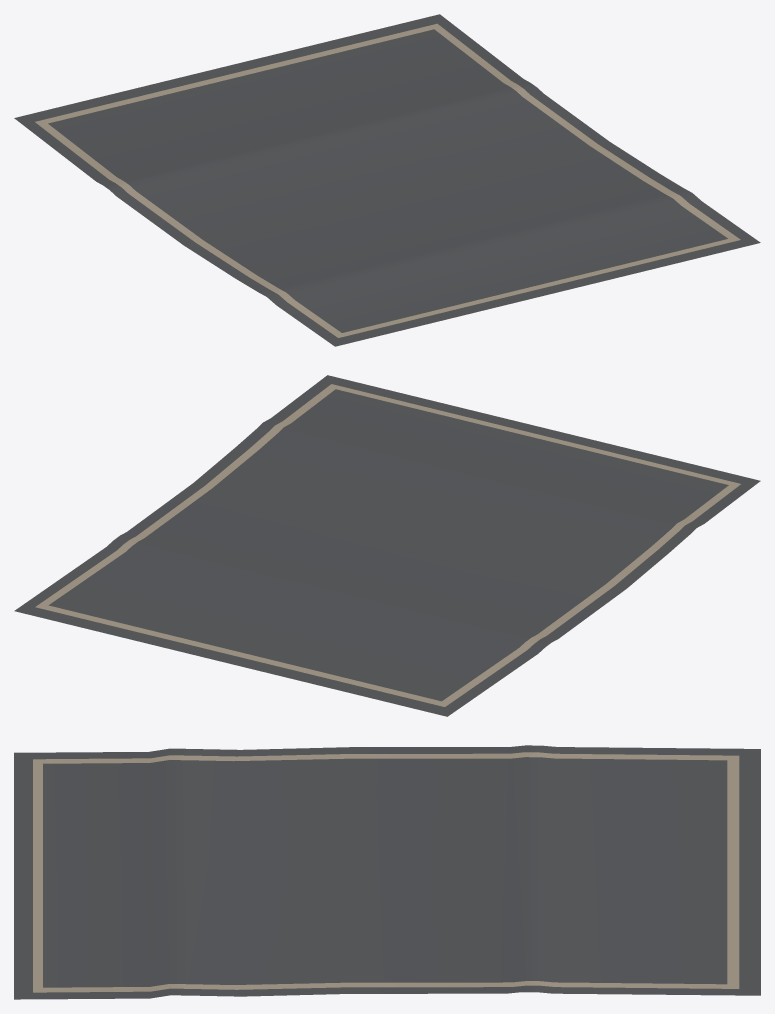
The model's file is pk_rug_taupe.glb.
3 renders of one model, top to bottom at view 1: azimuth 30°, elevation 25°; view 2: azimuth 150°, elevation 25°; view 3: azimuth 270°, elevation 25°, orthographic. The views are drawn at different scales.
Parts seen in each view (by area): view 1: pk_rug_taupe; view 2: pk_rug_taupe; view 3: pk_rug_taupe.
Boxes of the visible parts, box(x1,y1,x2,y2) form: pk_rug_taupe: box(14, 14, 760, 346); pk_rug_taupe: box(14, 375, 760, 716); pk_rug_taupe: box(14, 745, 760, 999).
Size of the model in its own units: 2.4 by 0.012 by 3.
1 material, 1 textured.
